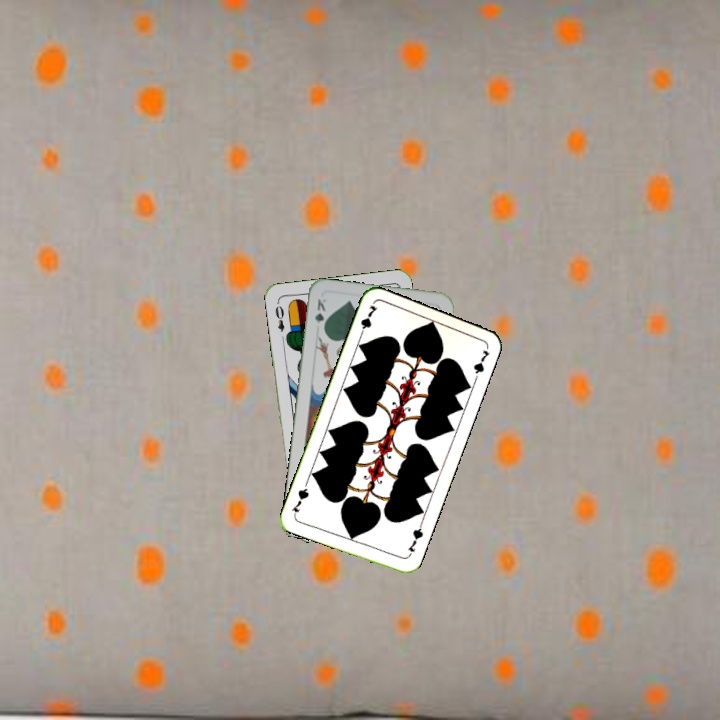EO: (271, 301, 287, 334)
G7: (355, 301, 380, 340), (403, 520, 426, 559)
GK: (310, 295, 328, 334)
